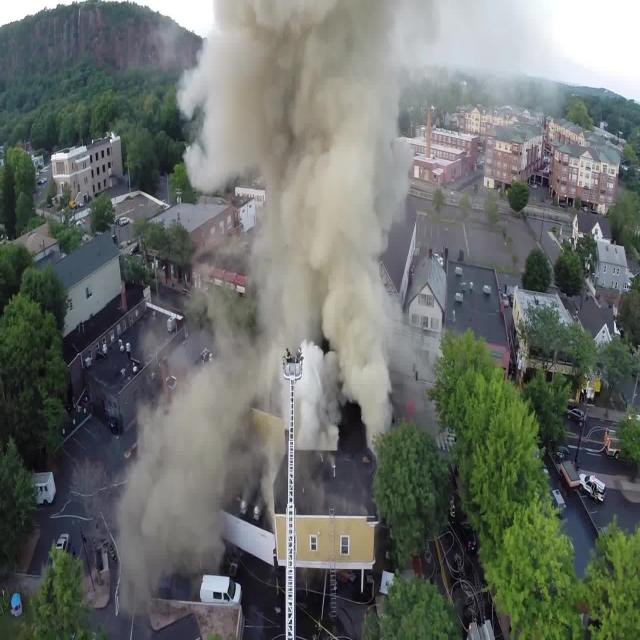smoke: (212, 4, 404, 341), (122, 372, 245, 597)
